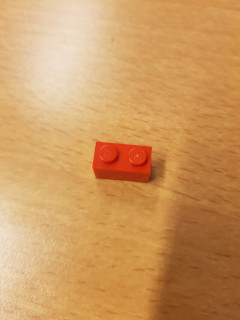1x2 red: (90, 139, 155, 191)
